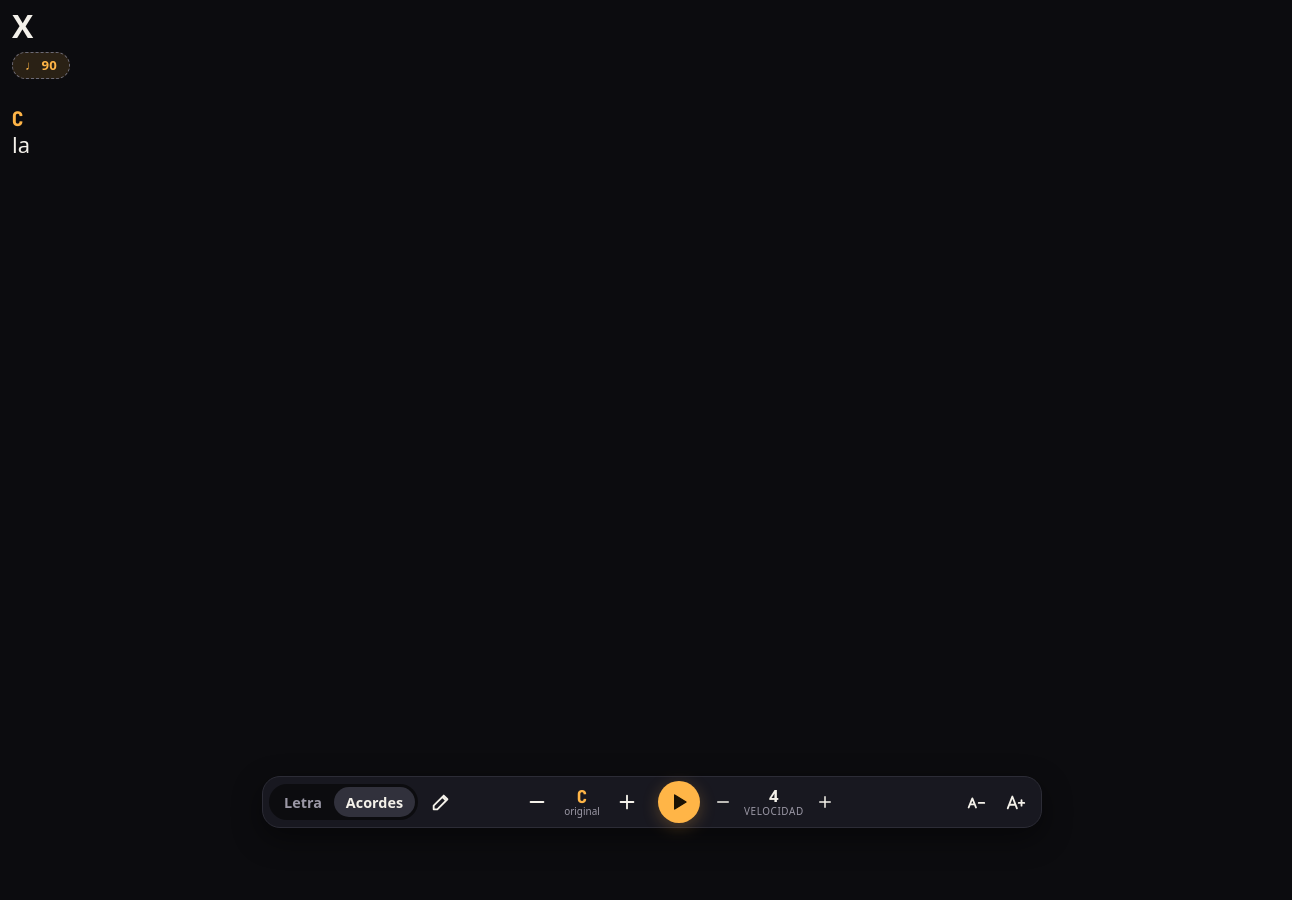
Scenario: SongPanel › BPM: tap the tempo chip, change it, save
Click the button named "Cambiar BPM" at (41, 66), box [12,52,70,80]
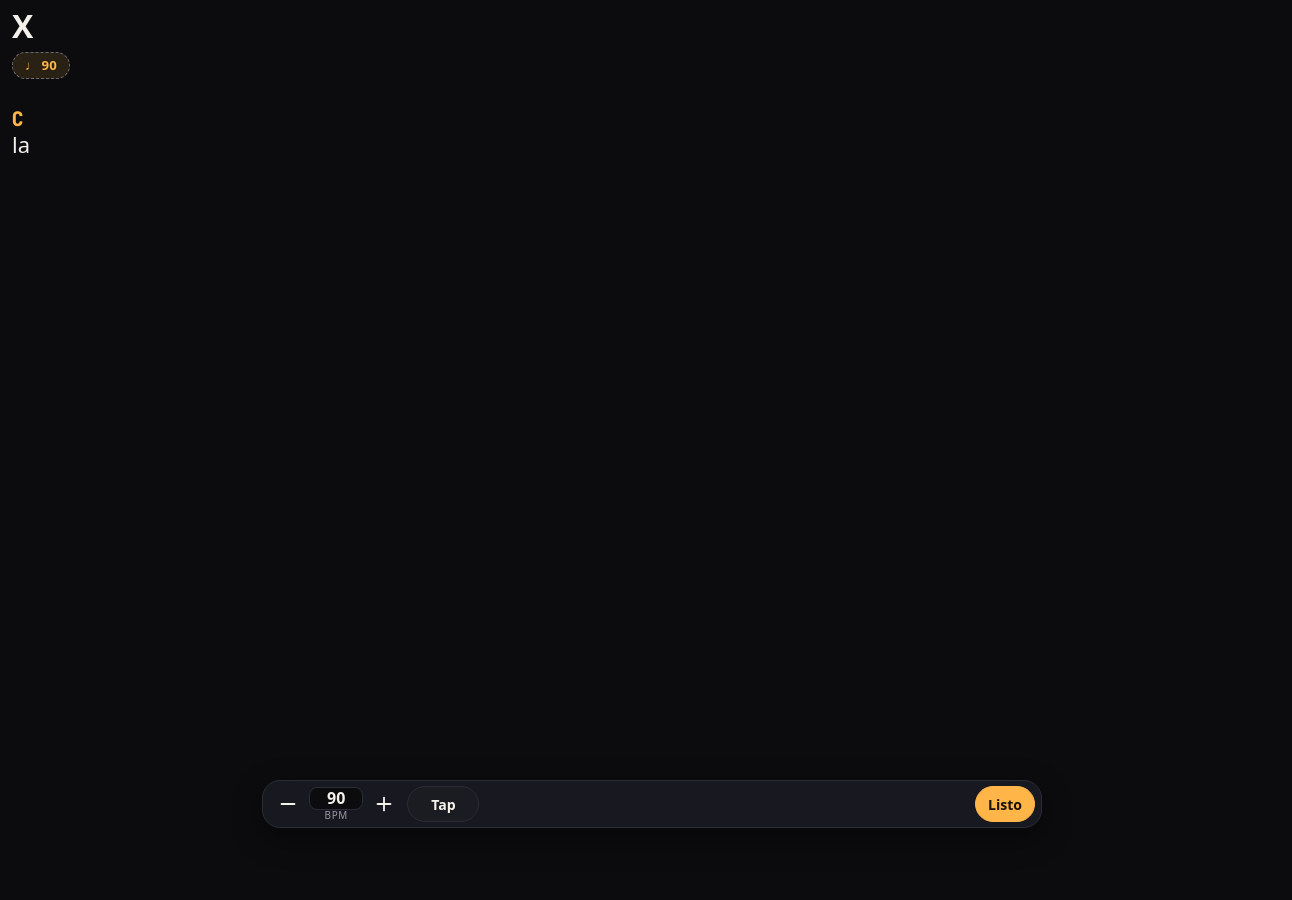
Click the button named "Más BPM" at (384, 804), box [365,785,403,823]
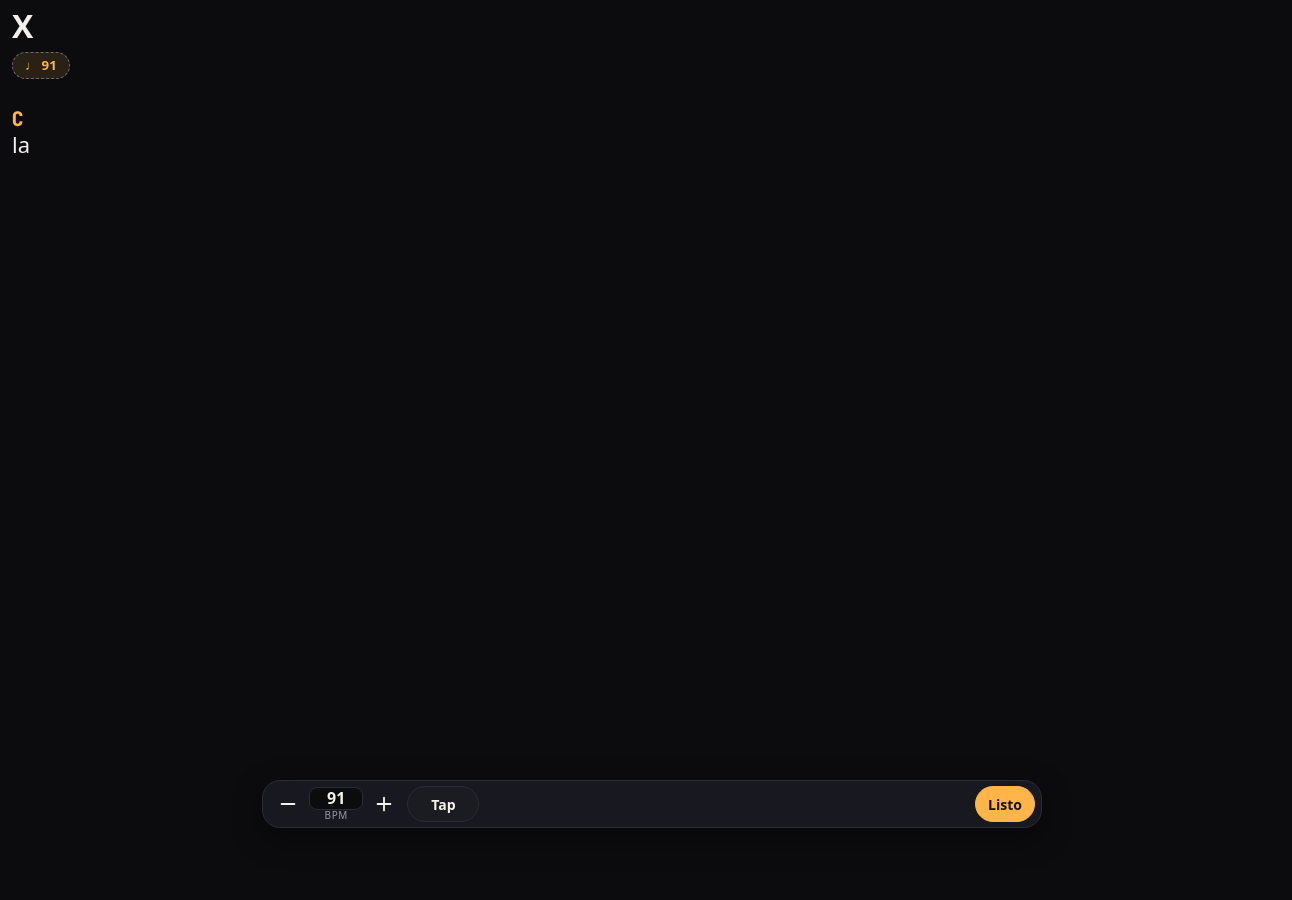
Now the number field labelled "bpm" holds "91"
Now the button "♩ 91" is shown, box [12,52,70,80]
Typing a number saves it when leaving the field (out of range is clamped).
Replace the text in the number field labelled "bpm" with "128" at (336, 799), box [309,787,363,810]
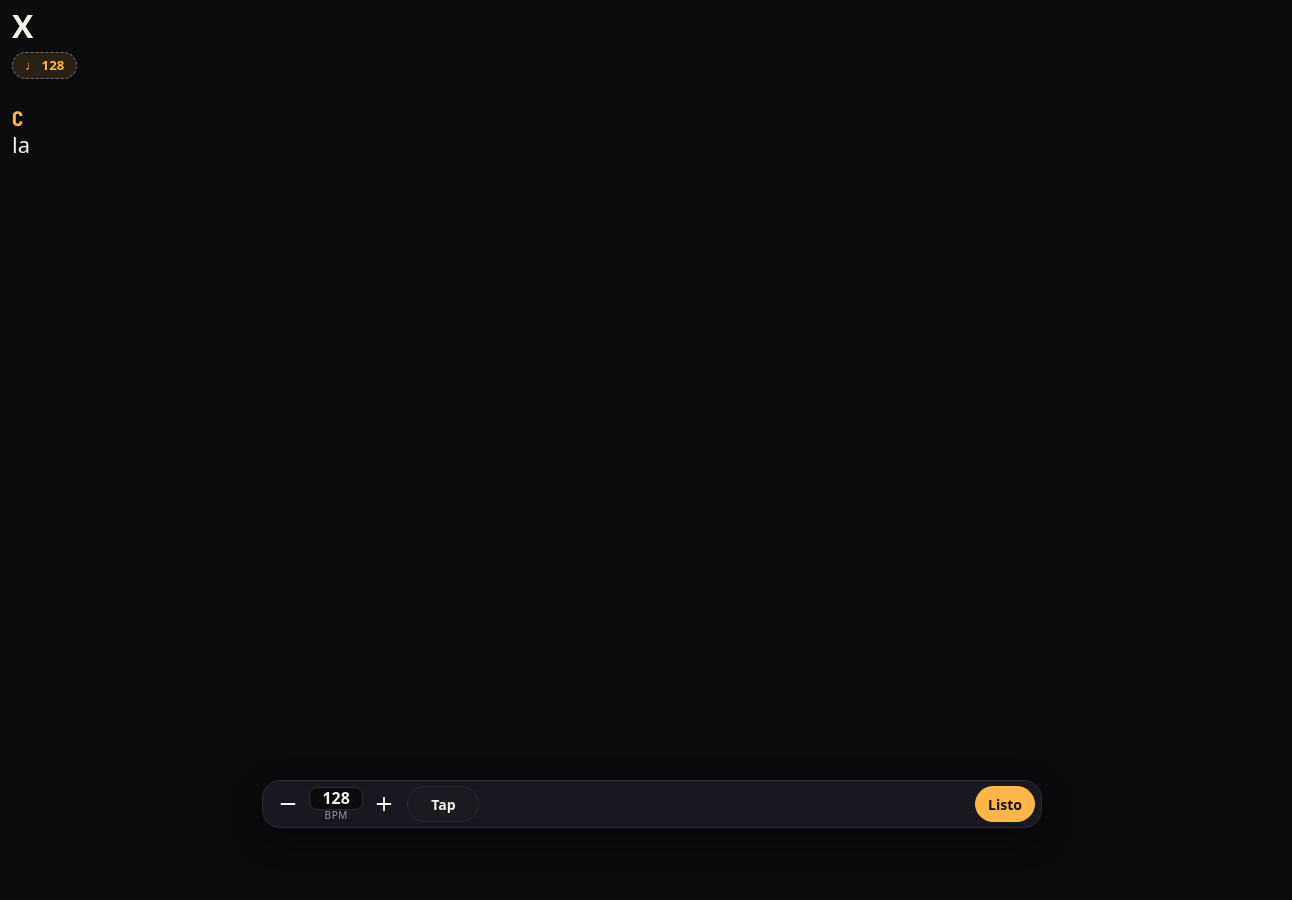
Replace the text in the number field labelled "bpm" with "999" at (336, 799), box [309,787,363,810]
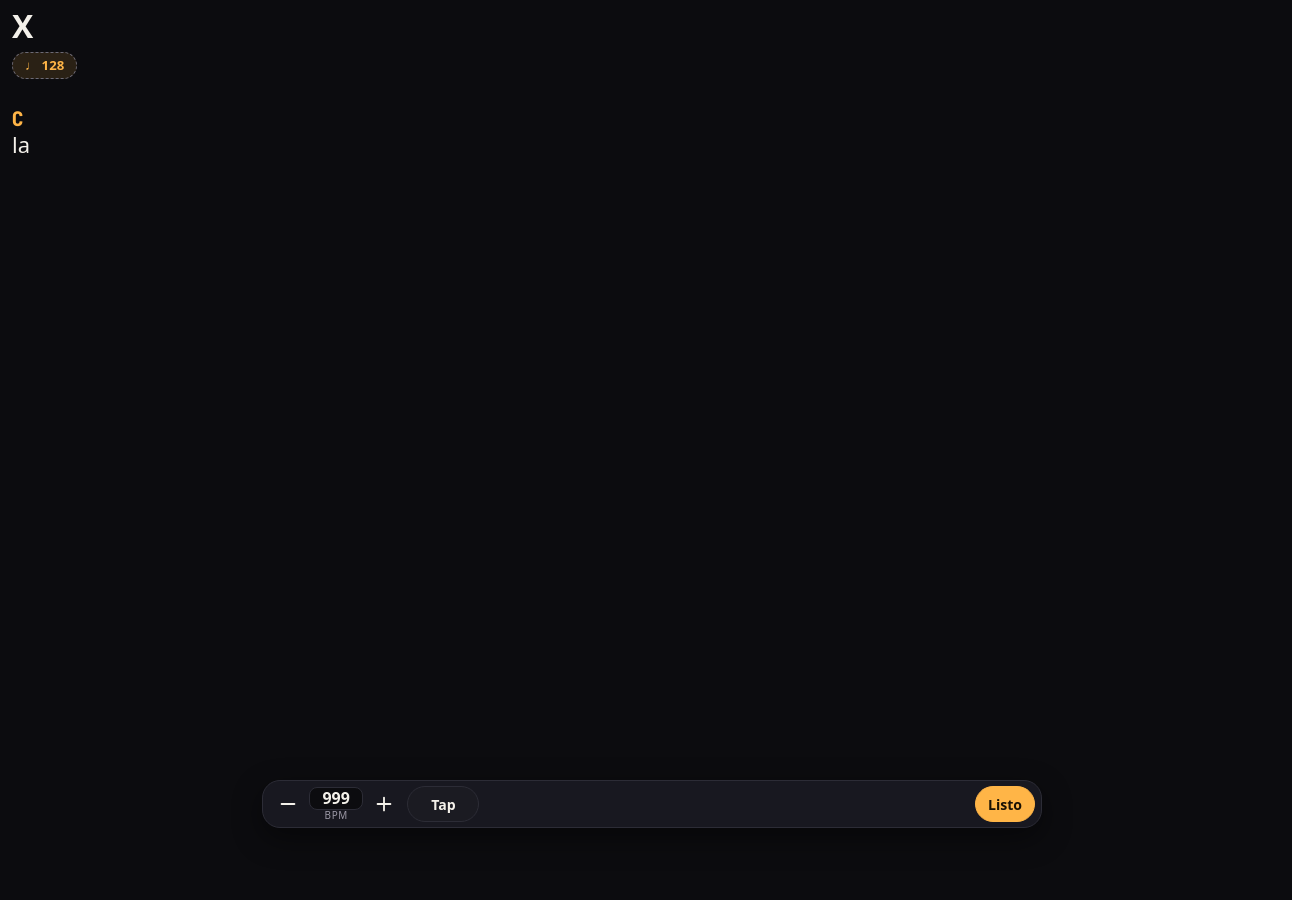
Leave the number field labelled "bpm", box [309,787,363,810]
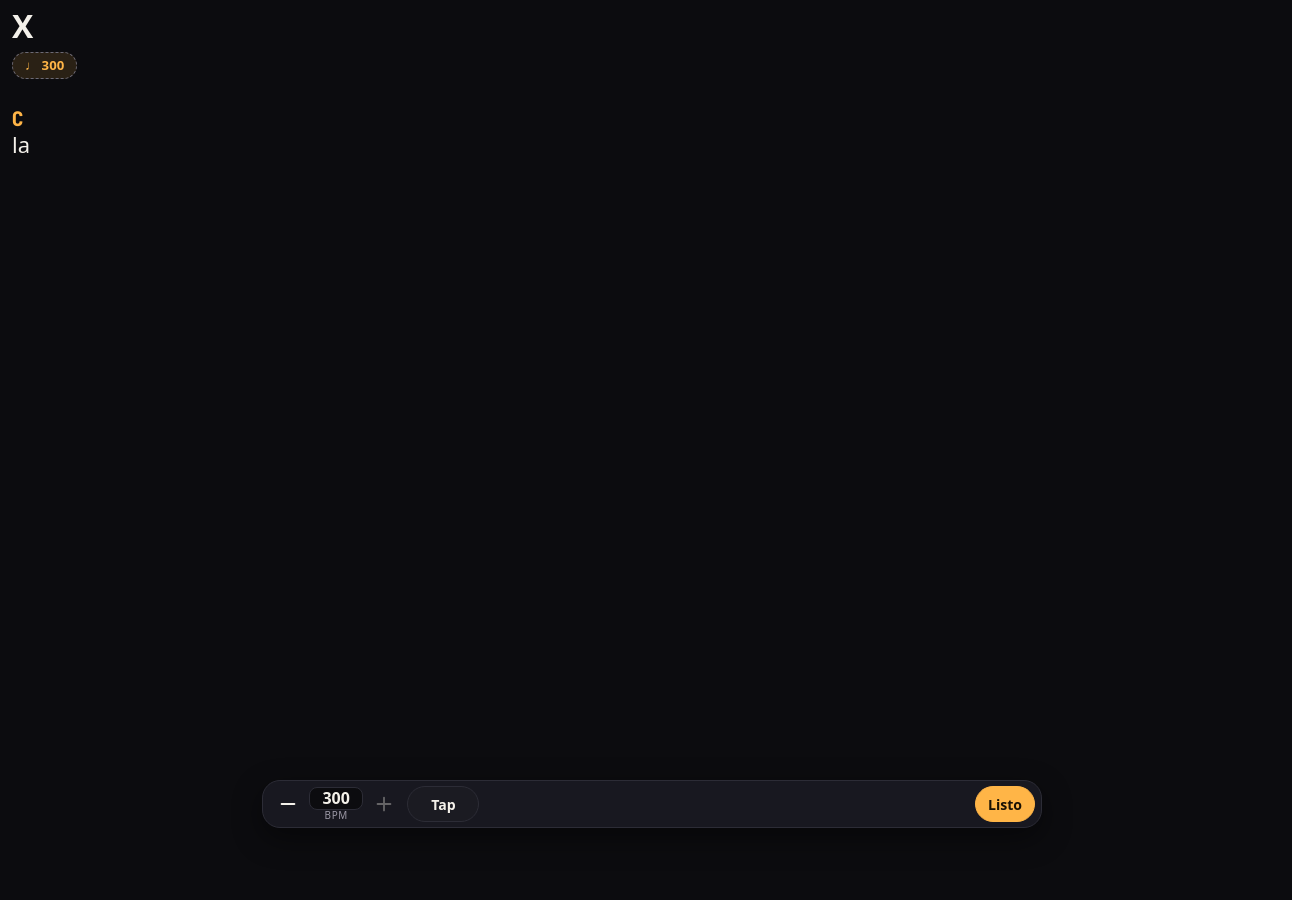
Now the button "♩ 300" is shown, box [12,52,77,80]
Click the button "Listo" at (1005, 804), box [975,786,1035,822]
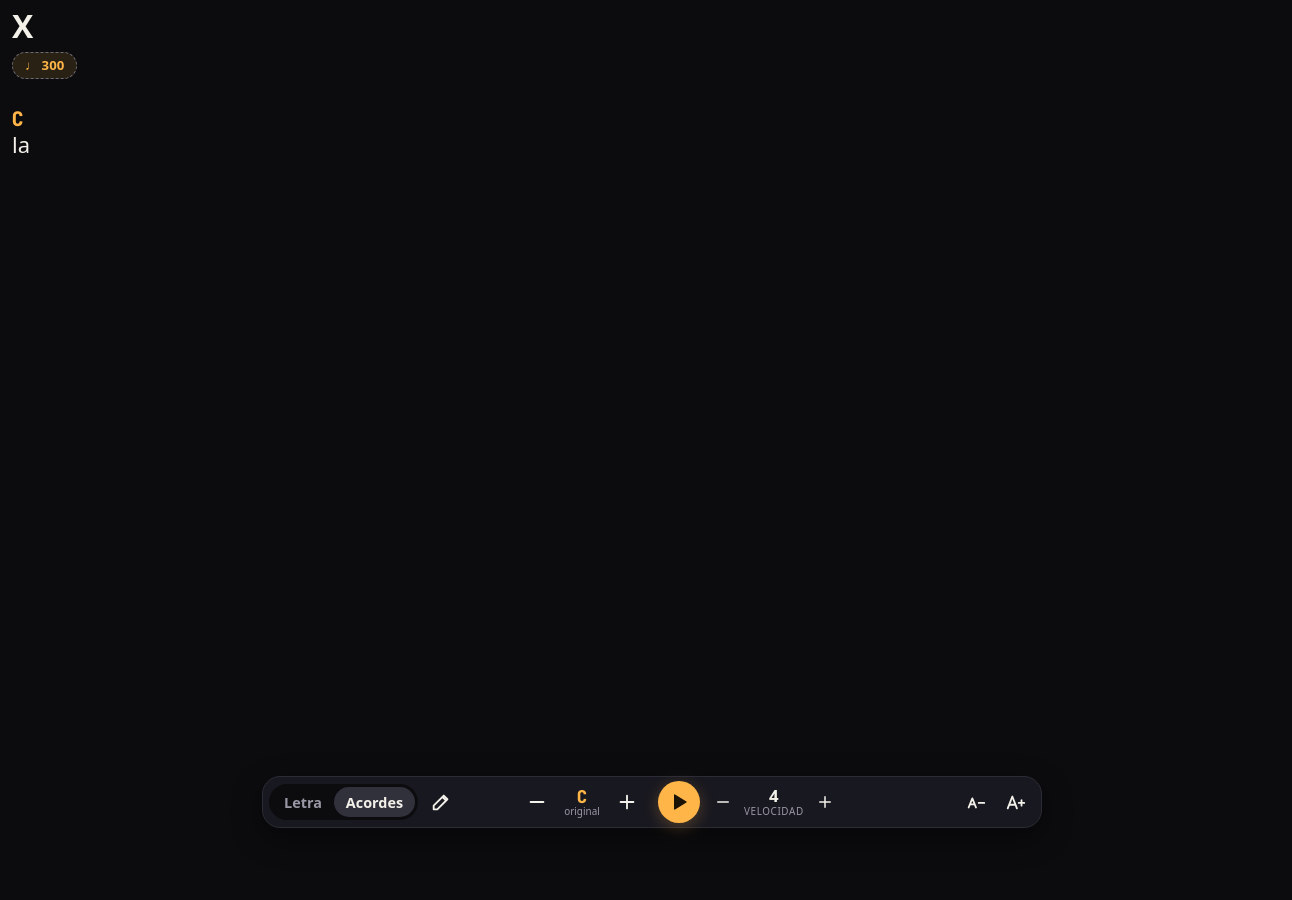
Now the button named "Desplazar automáticamente" is shown, box [658,781,700,823]
